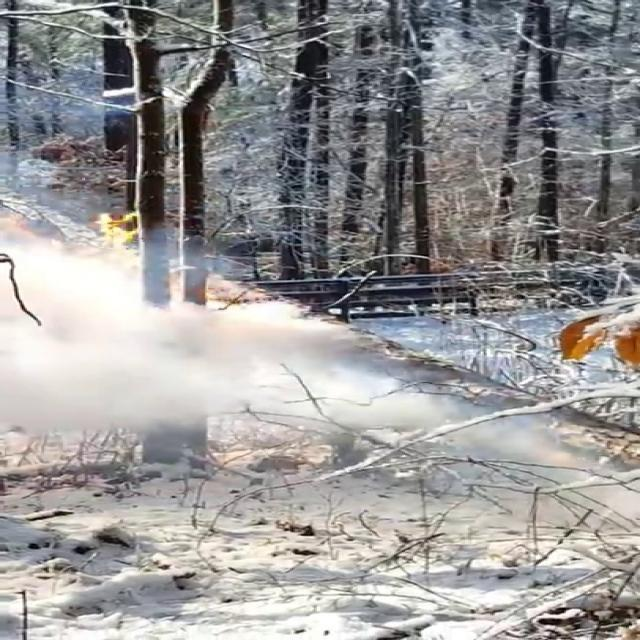Smoke: (2, 194, 570, 468)
